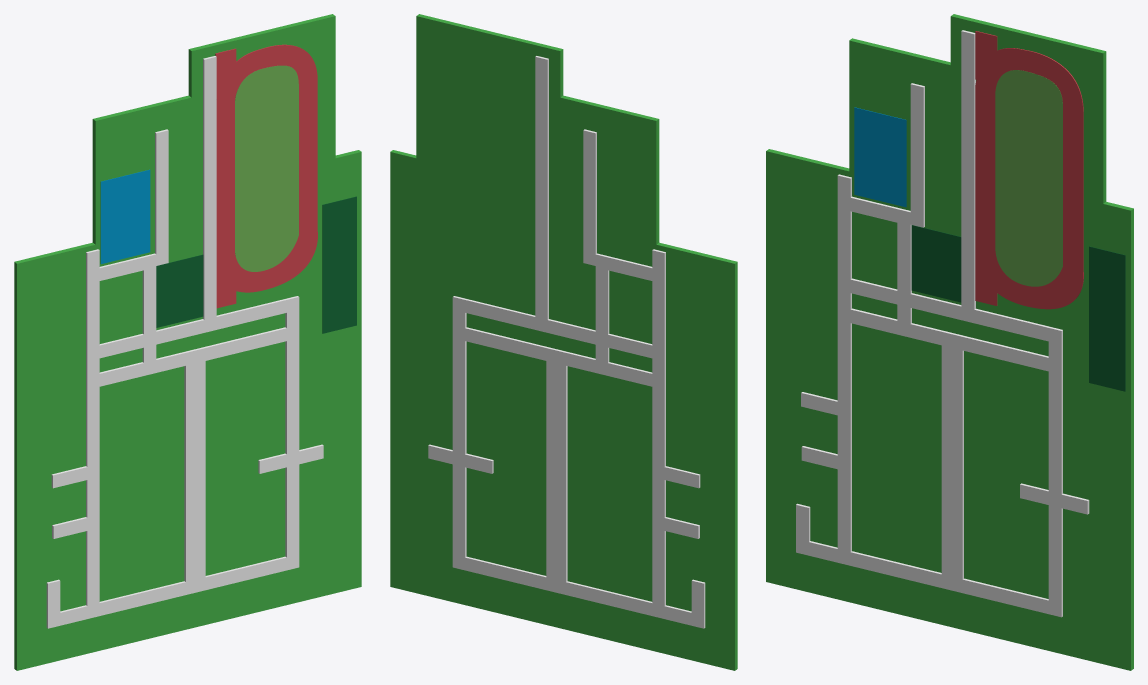
The model's file is ground.obj.
The picture shows the model from 3 angles, left to right: view 1: azimuth 30°, elevation 25°; view 2: azimuth 150°, elevation 25°; view 3: azimuth 330°, elevation 25°; orthographic projection. The views are drawn at different scales.
Parts seen in each view (by area): view 1: group_0_4634441, group_0_16448250, group_0_7584088, group_0_14043473, group_0_1206582, group_0_40919; view 2: group_0_4634441, group_0_16448250; view 3: group_0_4634441, group_0_16448250, group_0_7584088, group_0_14043473, group_0_1206582, group_0_40919.
Part boxes in pixels (x1,y1,x2,y2): group_0_4634441: (14,14,361,670); group_0_16448250: (46,56,323,628); group_0_7584088: (235,65,298,271); group_0_14043473: (215,44,317,308); group_0_1206582: (156,196,356,333); group_0_40919: (100,169,150,263); group_0_4634441: (390,14,737,670); group_0_16448250: (428,56,705,628); group_0_4634441: (766,14,1133,670); group_0_16448250: (796,30,1089,617); group_0_7584088: (995,70,1062,286); group_0_14043473: (975,31,1083,309); group_0_1206582: (911,225,1125,391); group_0_40919: (854,107,906,207).
Bounding box in the file's own units: 70 × 112 × 2.
